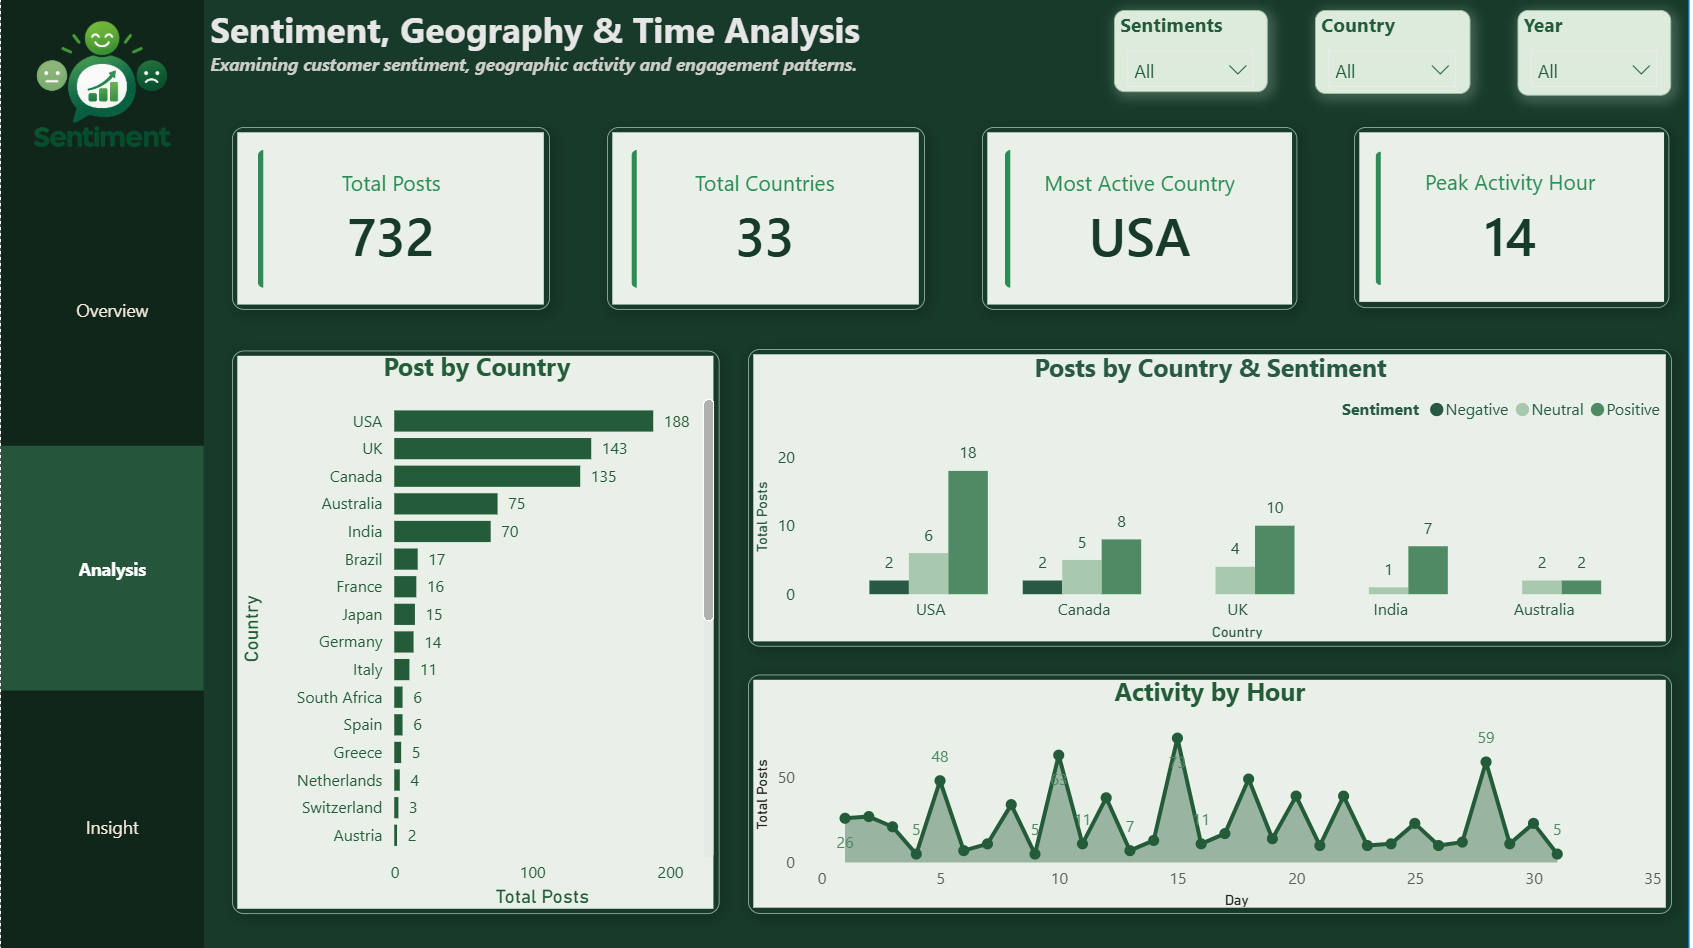

The page's visual inventory and layout, read from the dashboard file:
{"tool":"powerbi","page":{"name":"Analysis","canvas":[1280,720],"ordinal":1},"visuals":[{"type":"shape","box":[4.6,0,1270.4,719.4],"z":0},{"type":"shape","box":[0,0,153.1,718.7],"z":1000},{"type":"shape","box":[174.3,266,367.9,425.7],"z":2000},{"type":"shape","box":[563.3,264.9,697.1,224.8],"z":3000},{"type":"shape","box":[563.3,511.1,697.1,180.6],"z":4000},{"type":"clusteredBarChart","title":"Post by Country","fields":{"Category":["3) Sentiment dataset.Country"],"Y":["3) Sentiment dataset.Total Posts"]},"box":[174.9,265.3,367.4,425.7],"z":5000},{"type":"lineChart","title":"Activity by Hour","fields":{"Y":["3) Sentiment dataset.Total Posts"],"Category":["3) Sentiment dataset.Hour","3) Sentiment dataset.Day"]},"box":[563.3,511.1,697.1,180.6],"z":6000},{"type":"shape","box":[174.5,97.1,239.8,138.1],"z":7000},{"type":"shape","box":[740.2,97.1,238.3,138.1],"z":8000},{"type":"shape","box":[1021.5,97.1,238.3,136.6],"z":9000},{"type":"shape","box":[457.4,97.1,239.8,138.1],"z":10000},{"type":"cardVisual","fields":{"Data":["3) Sentiment dataset.Total Posts"]},"box":[176.1,97.1,236.8,138.1],"z":11000},{"type":"cardVisual","fields":{"Data":["3) Sentiment dataset.Total Countries"]},"box":[458.4,97.1,236.8,138.1],"z":12000},{"type":"cardVisual","fields":{"Data":["3) Sentiment dataset.Top Engaging Country"]},"box":[740.7,97.1,238.3,138.1],"z":13000},{"type":"cardVisual","fields":{"Data":["3) Sentiment dataset.Peak Activity Hour"]},"box":[1020,98.7,238.3,135.1],"z":14000},{"type":"textbox","box":[152.9,0,667.8,89.3],"z":15000},{"type":"clusteredColumnChart","title":"Posts by Country & Sentiment","fields":{"Category":["3) Sentiment dataset.Country"],"Y":["3) Sentiment dataset.Total Posts"],"Series":["3) Sentiment dataset.Sentiment"]},"box":[563.3,266.5,698,222.6],"z":16000},{"type":"slicer","title":"Sentiments","fields":{"Values":["3) Sentiment dataset.Sentiment"]},"box":[840.3,9,116.2,62],"z":17000},{"type":"slicer","title":"Country","fields":{"Values":["3) Sentiment dataset.Country"]},"box":[992,9,117.5,63.3],"z":18000},{"type":"slicer","title":"Year","fields":{"Values":["3) Sentiment dataset.Year"]},"box":[1145,9,116.2,64.6],"z":19000},{"type":"pageNavigator","box":[0,142.9,153.1,577.3],"z":20000},{"type":"image","box":[0,1.5,153.1,129.7],"z":21000}]}

Visuals, with their boxes in screenshot pixels (x1, y1, x2, y2), scaled from the page's 1280x720 canvas onto the 1693x948 screenshot:
shape: [left=6, top=0, right=1686, bottom=947]
shape: [left=0, top=0, right=202, bottom=946]
shape: [left=231, top=350, right=717, bottom=911]
shape: [left=745, top=349, right=1667, bottom=645]
shape: [left=745, top=673, right=1667, bottom=911]
"Post by Country" clusteredBarChart: [left=231, top=349, right=717, bottom=910]
"Activity by Hour" lineChart: [left=745, top=673, right=1667, bottom=911]
shape: [left=231, top=128, right=548, bottom=310]
shape: [left=979, top=128, right=1294, bottom=310]
shape: [left=1351, top=128, right=1666, bottom=308]
shape: [left=605, top=128, right=922, bottom=310]
cardVisual - 3) Sentiment dataset.Total Posts: [left=233, top=128, right=546, bottom=310]
cardVisual - 3) Sentiment dataset.Total Countries: [left=606, top=128, right=920, bottom=310]
cardVisual - 3) Sentiment dataset.Top Engaging Country: [left=980, top=128, right=1295, bottom=310]
cardVisual - 3) Sentiment dataset.Peak Activity Hour: [left=1349, top=130, right=1664, bottom=308]
textbox: [left=202, top=0, right=1086, bottom=118]
"Posts by Country & Sentiment" clusteredColumnChart: [left=745, top=351, right=1668, bottom=644]
"Sentiments" slicer: [left=1111, top=12, right=1265, bottom=93]
"Country" slicer: [left=1312, top=12, right=1467, bottom=95]
"Year" slicer: [left=1514, top=12, right=1668, bottom=97]
pageNavigator: [left=0, top=188, right=202, bottom=947]
image: [left=0, top=2, right=202, bottom=173]
